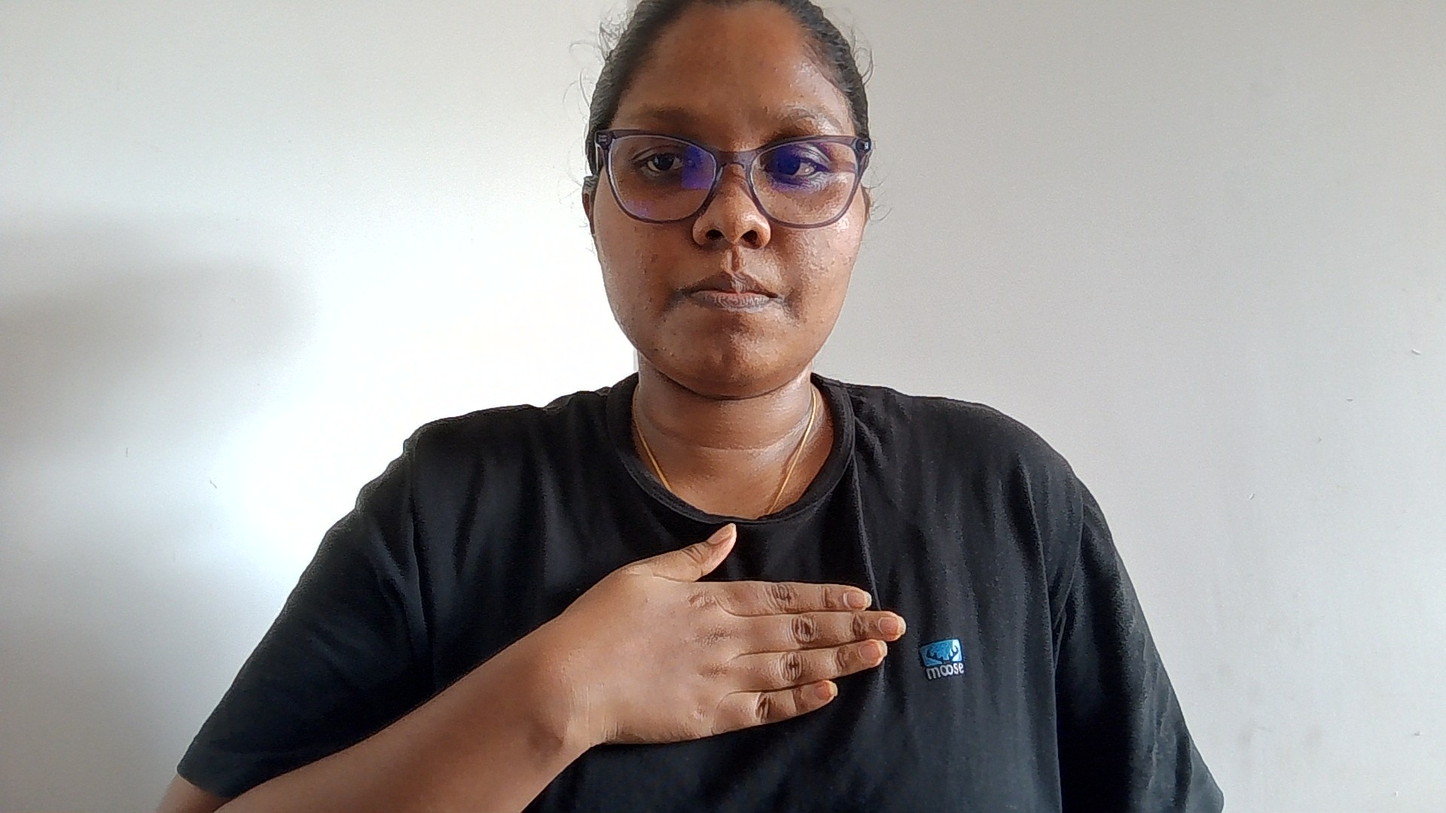Please: (512, 482, 973, 813)
